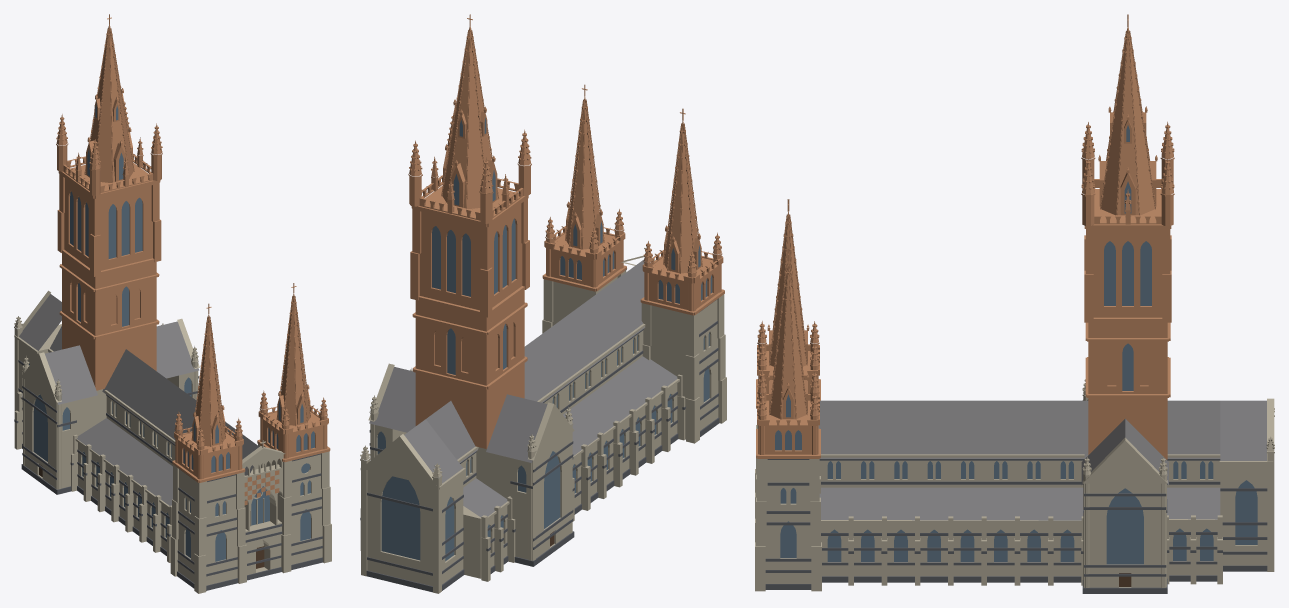
Rendered from melbourne-st-pauls-cathedral.detail.glb.
3 renders of one model, left to right at view 1: azimuth 30°, elevation 25°; view 2: azimuth 150°, elevation 25°; view 3: azimuth 270°, elevation 25°, orthographic. The views are drawn at different scales.
Parts seen in each view (by area): view 1: St Paul's Cathedral; view 2: St Paul's Cathedral; view 3: St Paul's Cathedral.
Part boxes in pixels (bbox=[...]): St Paul's Cathedral: bbox=[14, 14, 331, 593]; St Paul's Cathedral: bbox=[360, 14, 726, 593]; St Paul's Cathedral: bbox=[755, 14, 1274, 593].
Size of the model in its own units: 31.7 by 95 by 83.21.
